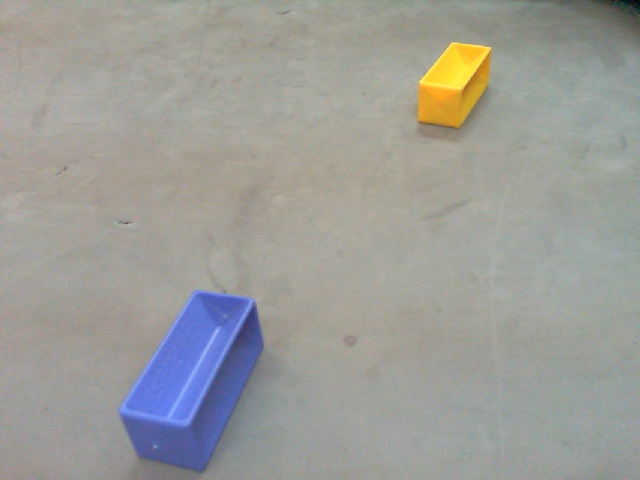BlueSample: (115, 287, 279, 475)
YellowSample: (416, 40, 495, 131)
